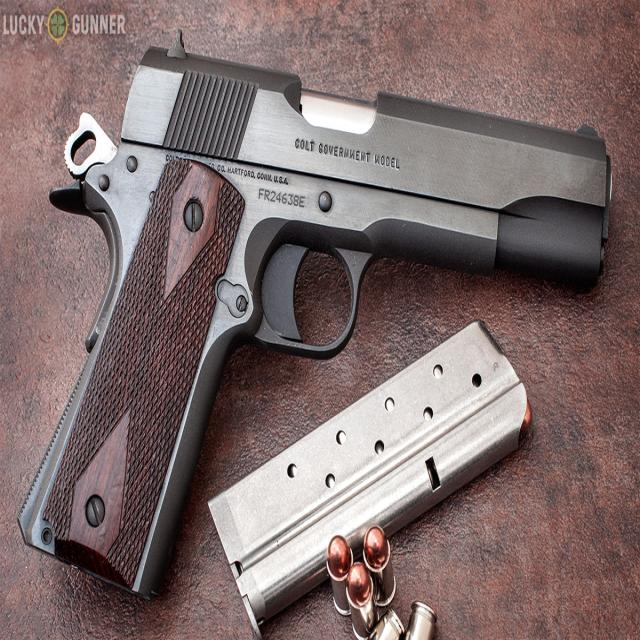HandGun: (18, 34, 614, 602)
